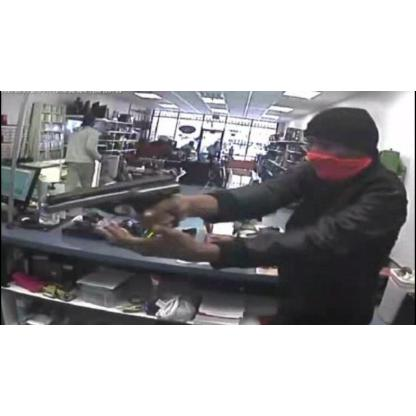gun: (42, 167, 192, 256)
